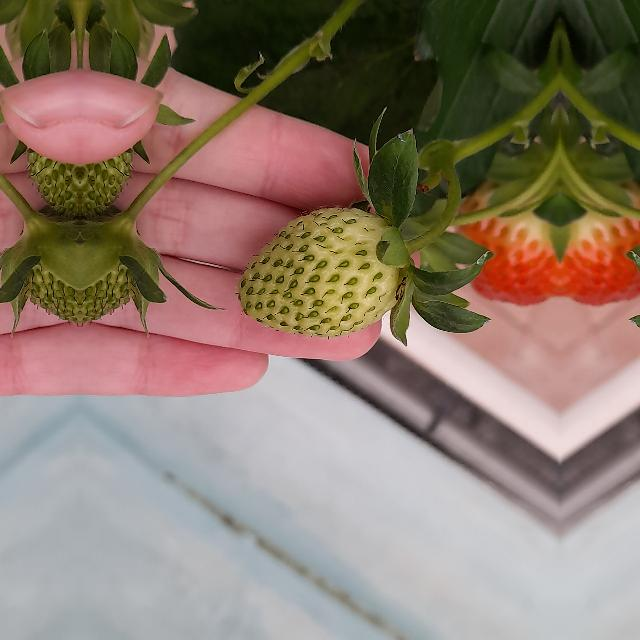Health_25: (237, 206, 403, 338)
